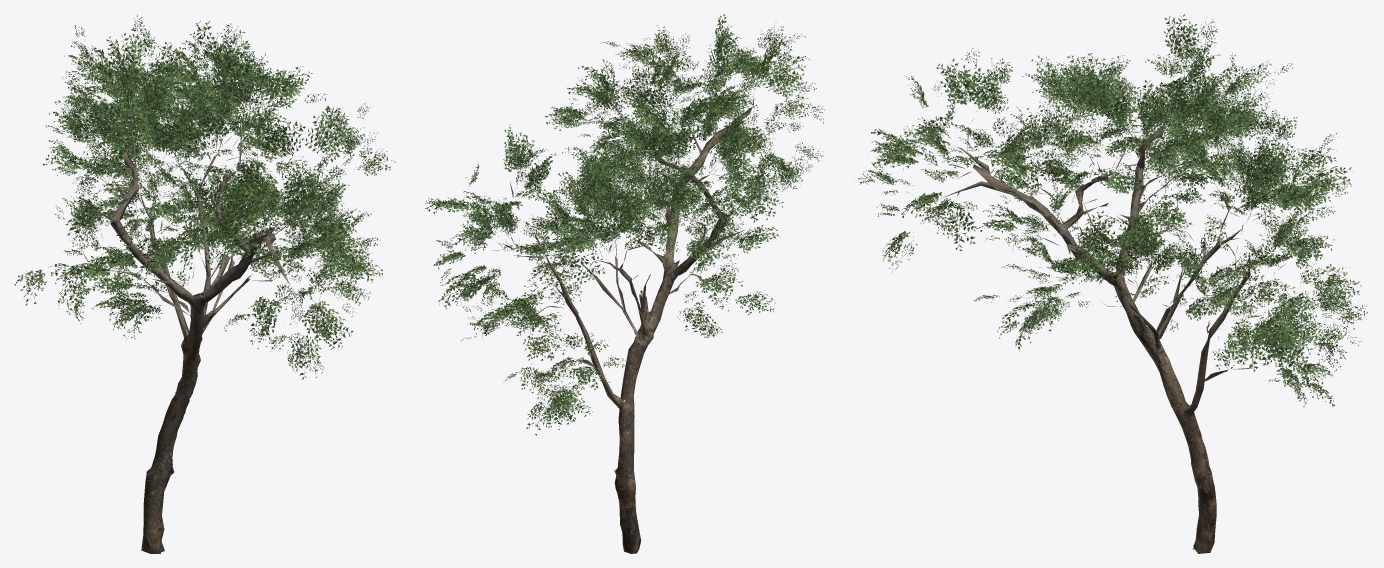
Rendered from street-tree-small-v205.glb.
3 views of the same model, side by side, from view 1: azimuth 30°, elevation 25°; view 2: azimuth 150°, elevation 25°; view 3: azimuth 270°, elevation 25° (orthographic). The views are drawn at different scales.
Parts seen in each view (by area): view 1: tree_small_02_LOD0; view 2: tree_small_02_LOD0; view 3: tree_small_02_LOD0.
Boxes of the visible parts, x1=… form: tree_small_02_LOD0: x1=14, y1=14, x2=395, y2=553; tree_small_02_LOD0: x1=425, y1=14, x2=824, y2=553; tree_small_02_LOD0: x1=857, y1=14, x2=1369, y2=553.
Bounding box in the file's own units: 2.92 × 4.56 × 4.28.
Materials: 3 (3 with a texture image).
